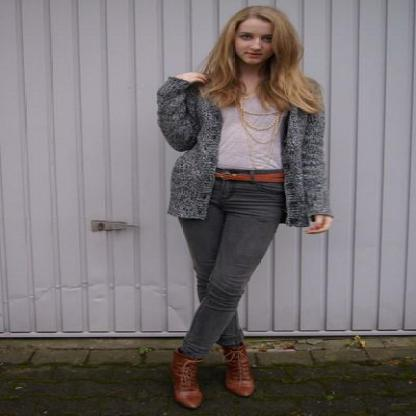jacket: (157, 80, 332, 224)
pants: (175, 179, 297, 353)
shirt: (217, 94, 282, 169)
shoe: (170, 345, 254, 407)
